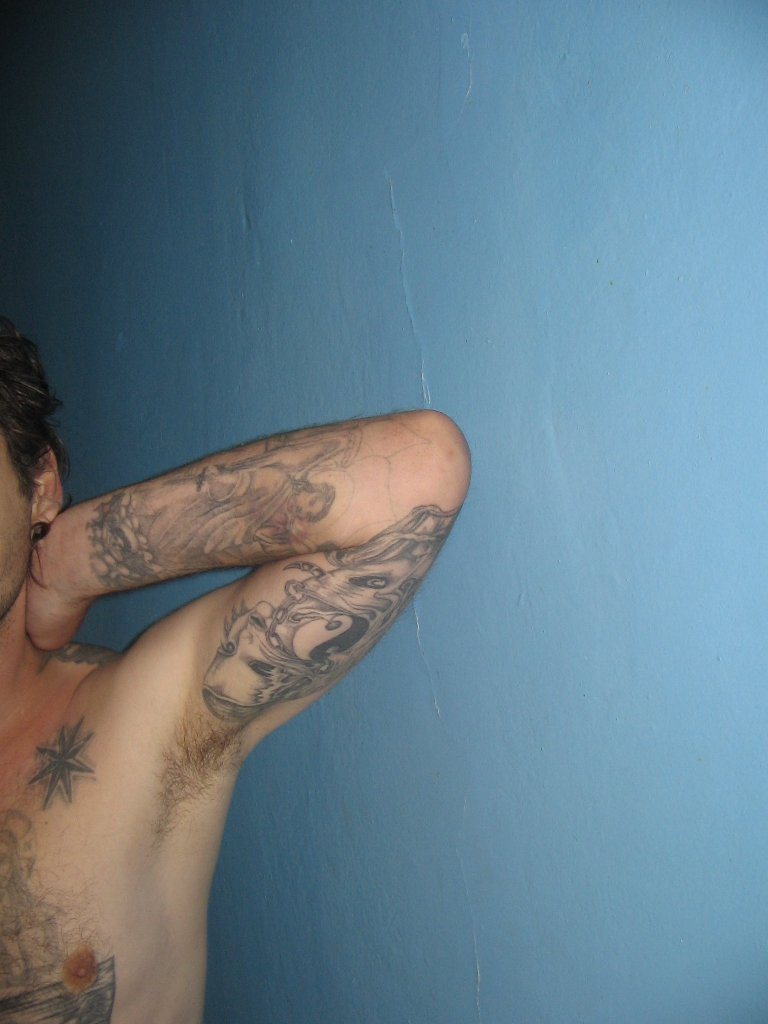tatu1_angel: (98, 426, 368, 571)
tatu4_zvezda: (19, 709, 106, 816)
